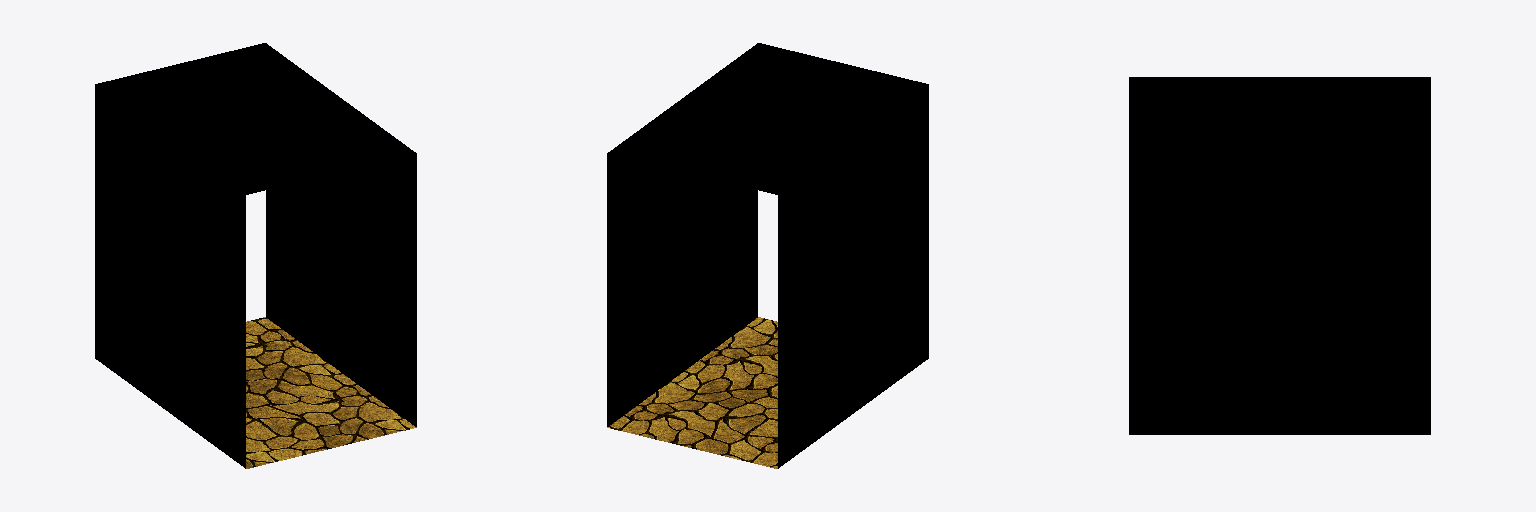
3 views of the same model, side by side, from view 1: azimuth 30°, elevation 25°; view 2: azimuth 150°, elevation 25°; view 3: azimuth 270°, elevation 25° (orthographic).
Parts seen in each view (by area): view 1: panel_port_coridor; view 2: panel_port_coridor; view 3: panel_port_coridor.
Boxes of the visible parts, x1=… form: panel_port_coridor: x1=95, y1=43, x2=416, y2=468; panel_port_coridor: x1=607, y1=43, x2=928, y2=468; panel_port_coridor: x1=1129, y1=77, x2=1430, y2=434.
Bounding box in the file's own units: 130 × 200 × 200.
Materials: 2 (1 with a texture image).